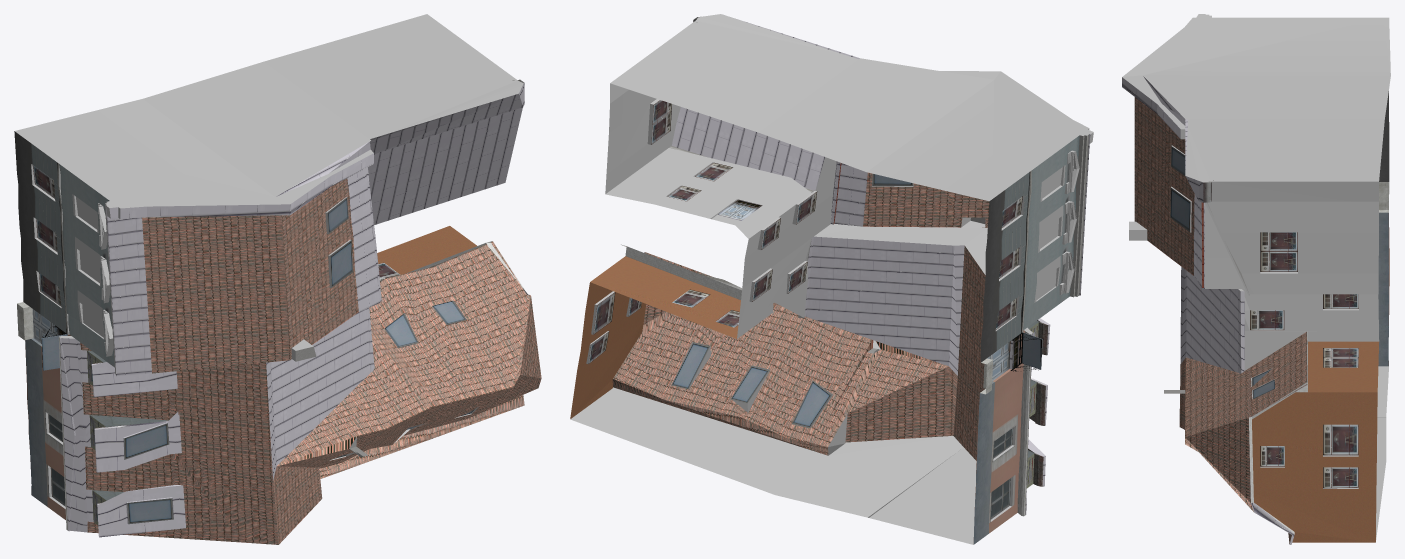
Rendered from Uus_30-origo.obj.
3 views of the same model, side by side, from view 1: azimuth 30°, elevation 25°; view 2: azimuth 150°, elevation 25°; view 3: azimuth 270°, elevation 25° (orthographic). The views are drawn at different scales.
Parts seen in each view (by area): view 1: Uus_30; view 2: Uus_30; view 3: Uus_30.
Boxes of the visible parts, bbox=[...] form: Uus_30: bbox=[14, 14, 541, 544]; Uus_30: bbox=[570, 14, 1093, 544]; Uus_30: bbox=[1122, 14, 1390, 544].
Bounding box in the file's own units: 22.75 × 18 × 12.14.
